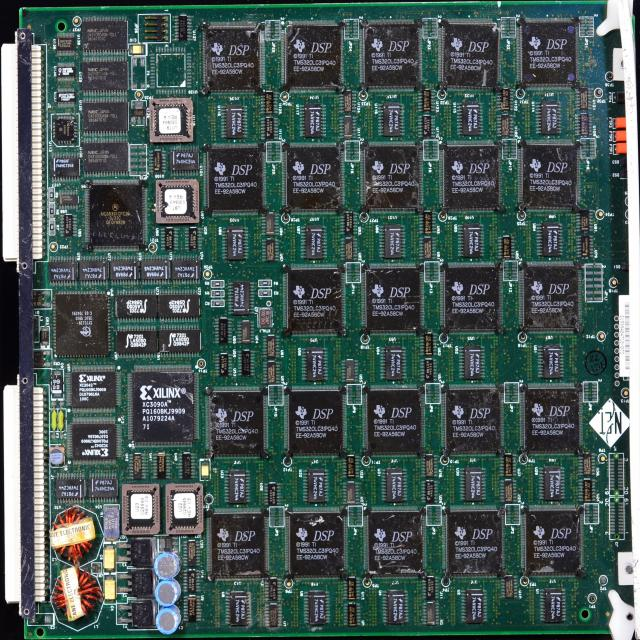Capacitor Jumper: (104, 543, 116, 573), (104, 574, 116, 604), (50, 446, 66, 467), (128, 44, 148, 56), (200, 460, 210, 480), (57, 408, 64, 432), (92, 561, 102, 574), (51, 409, 56, 432)
Connector: (2, 384, 46, 603), (0, 42, 44, 260)
IC: (127, 363, 201, 446), (283, 506, 349, 580), (442, 505, 507, 579), (518, 261, 584, 333), (206, 508, 270, 582), (521, 505, 585, 578), (516, 18, 580, 91), (281, 20, 344, 94), (202, 23, 266, 95), (517, 140, 581, 212), (282, 142, 346, 214), (84, 180, 148, 252), (284, 264, 346, 338), (362, 387, 427, 457), (441, 263, 504, 334), (361, 264, 424, 335), (364, 507, 427, 578), (439, 20, 502, 91), (284, 387, 346, 459), (360, 21, 422, 93), (361, 142, 424, 212), (521, 385, 583, 456), (206, 386, 269, 454), (442, 385, 504, 454), (205, 146, 266, 216), (440, 144, 501, 212), (53, 292, 111, 358), (66, 365, 122, 417), (68, 418, 125, 467), (148, 98, 196, 143), (155, 181, 201, 225), (119, 486, 161, 534), (166, 484, 203, 534), (82, 138, 130, 176), (81, 99, 129, 136), (81, 18, 128, 55), (81, 58, 128, 95), (115, 290, 157, 324), (159, 324, 201, 358), (115, 325, 158, 358), (158, 290, 201, 322), (56, 473, 88, 505), (303, 591, 332, 625), (381, 468, 409, 502), (378, 103, 406, 137), (535, 223, 563, 257), (222, 228, 250, 262), (168, 256, 200, 285), (537, 344, 564, 378), (221, 104, 246, 140), (51, 114, 79, 146), (540, 589, 567, 622), (228, 282, 254, 316), (302, 347, 328, 381), (539, 467, 565, 501), (225, 592, 251, 626), (89, 473, 118, 503), (51, 154, 81, 183), (458, 347, 485, 379), (380, 348, 407, 380), (299, 106, 326, 138), (382, 590, 408, 623), (303, 470, 329, 502), (457, 104, 483, 136), (462, 590, 487, 623), (380, 226, 405, 259), (171, 147, 199, 176), (51, 258, 79, 287), (110, 257, 138, 285), (140, 259, 169, 286), (461, 469, 486, 500), (535, 103, 560, 134), (458, 225, 483, 256), (301, 231, 327, 260), (79, 260, 108, 286), (226, 471, 248, 504), (339, 212, 357, 240), (160, 226, 180, 251), (177, 452, 196, 478), (174, 15, 192, 42), (214, 353, 234, 377), (149, 148, 165, 178), (238, 350, 256, 376), (339, 117, 360, 139), (259, 117, 279, 140), (575, 210, 595, 233), (418, 211, 438, 234), (259, 90, 278, 114), (339, 91, 358, 115), (183, 540, 200, 566), (57, 189, 78, 210), (500, 480, 520, 502), (262, 361, 281, 384), (56, 33, 75, 56), (420, 332, 438, 356), (153, 455, 171, 479), (183, 597, 201, 621), (575, 112, 593, 136), (421, 453, 438, 478), (575, 86, 592, 111), (261, 211, 278, 236), (238, 321, 256, 344), (265, 483, 283, 506), (264, 578, 282, 601), (496, 88, 514, 111), (416, 89, 434, 112), (184, 228, 202, 251), (262, 238, 280, 261), (215, 318, 232, 342), (499, 453, 516, 477), (129, 454, 146, 478), (502, 575, 519, 599), (343, 576, 360, 600), (422, 576, 439, 600), (579, 451, 595, 476), (60, 215, 79, 236), (420, 360, 438, 382), (497, 236, 515, 258), (576, 236, 594, 258), (419, 238, 437, 260), (343, 455, 359, 479), (344, 604, 361, 626), (496, 116, 513, 138), (421, 481, 439, 501), (342, 360, 358, 382), (580, 479, 596, 501), (344, 482, 360, 504), (266, 605, 282, 627), (264, 335, 279, 358), (57, 63, 75, 82), (424, 602, 438, 626), (58, 89, 76, 107), (340, 242, 358, 260), (418, 117, 434, 136), (185, 570, 199, 591), (258, 308, 272, 326)
Resistor Jumper: (104, 504, 120, 542), (258, 289, 272, 297), (258, 280, 272, 288), (48, 205, 55, 220), (49, 188, 55, 204), (211, 300, 224, 307), (212, 291, 224, 297), (210, 281, 222, 286)
Transistor: (49, 220, 55, 236)
